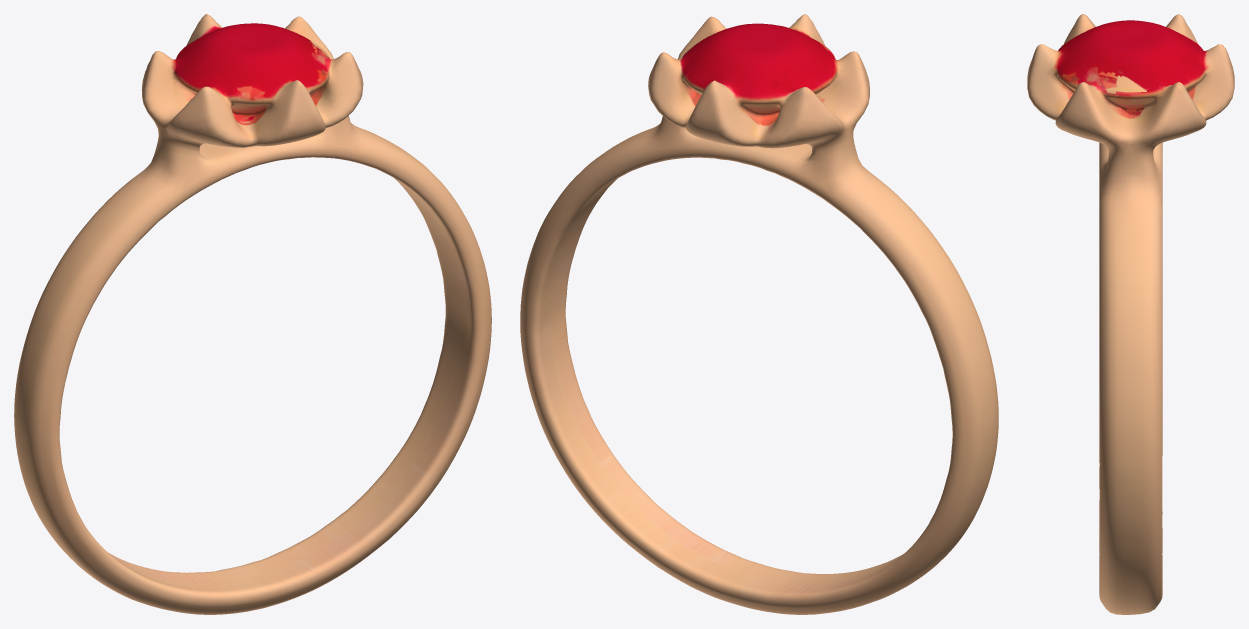
The model's file is ring2.glb.
The picture shows the model from 3 angles, left to right: view 1: azimuth 30°, elevation 25°; view 2: azimuth 150°, elevation 25°; view 3: azimuth 270°, elevation 25°; orthographic projection.
Parts seen in each view (by area): view 1: model; view 2: model; view 3: model.
Boxes of the visible parts, bbox=[...] form: model: bbox=[14, 14, 491, 614]; model: bbox=[520, 14, 998, 614]; model: bbox=[1027, 14, 1234, 614].
Bounding box in the file's own units: 1.63 × 1.9 × 0.6434.
1 material, 1 textured.
